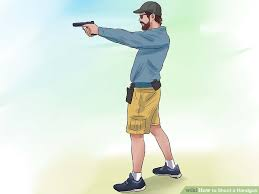Gun: (72, 20, 100, 36)
